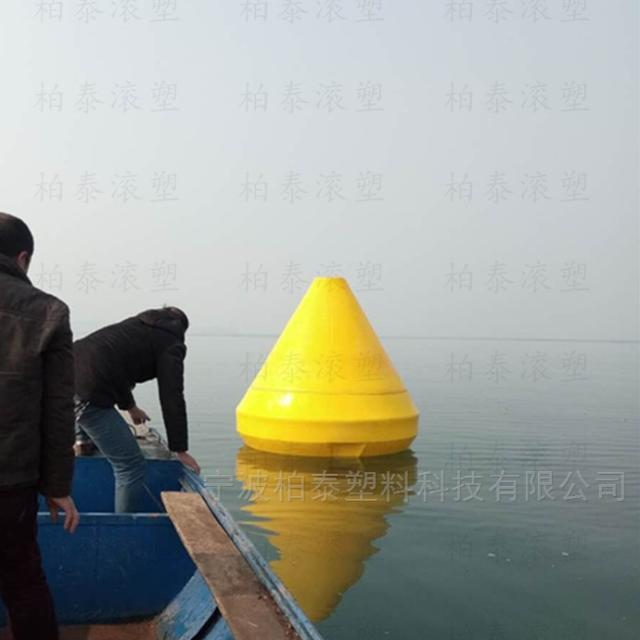buoy: (228, 269, 428, 461)
